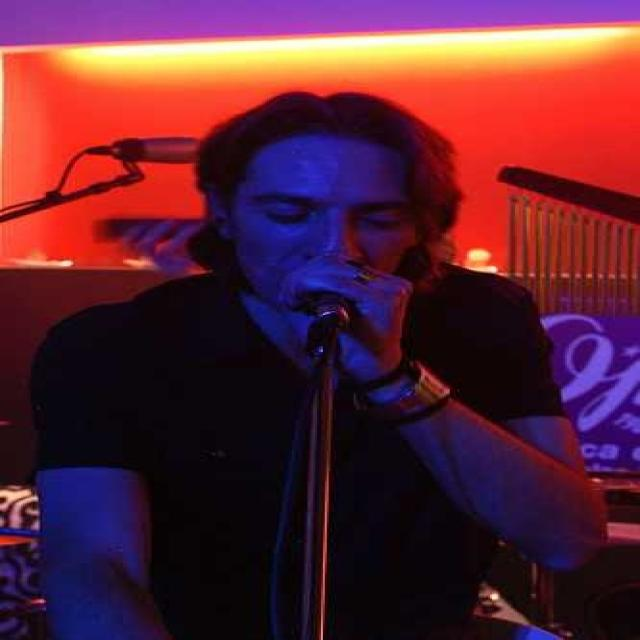microphone: (290, 258, 381, 338), (82, 136, 196, 165)
